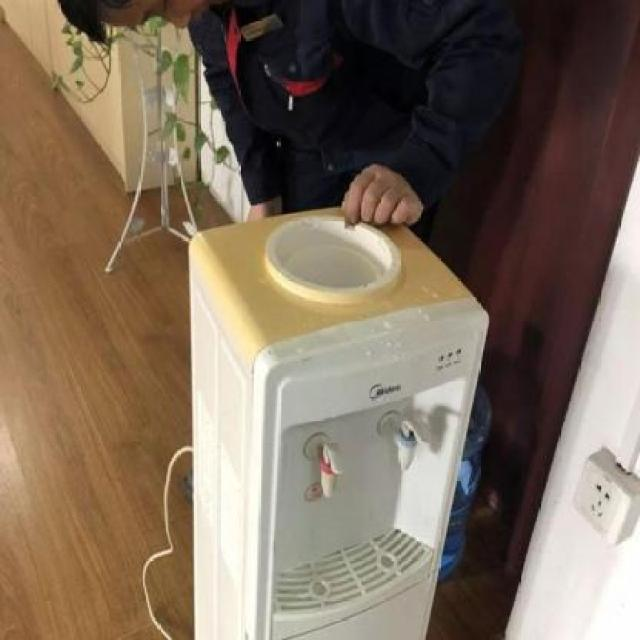cooler: (185, 206, 490, 640)
